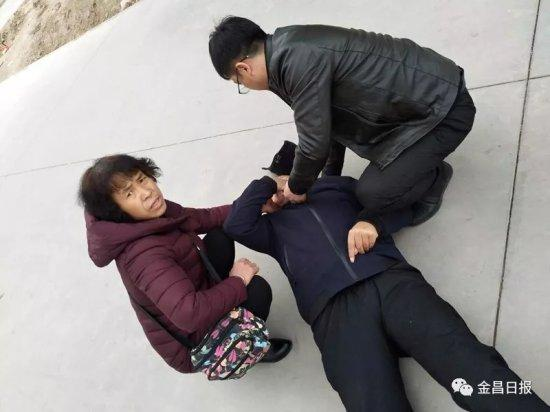bending: (205, 17, 477, 235), (65, 150, 292, 380)
down: (221, 159, 550, 412)
